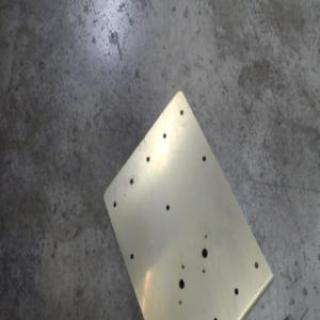MetalSheettrack_idkeyframe: (99, 85, 275, 319)
